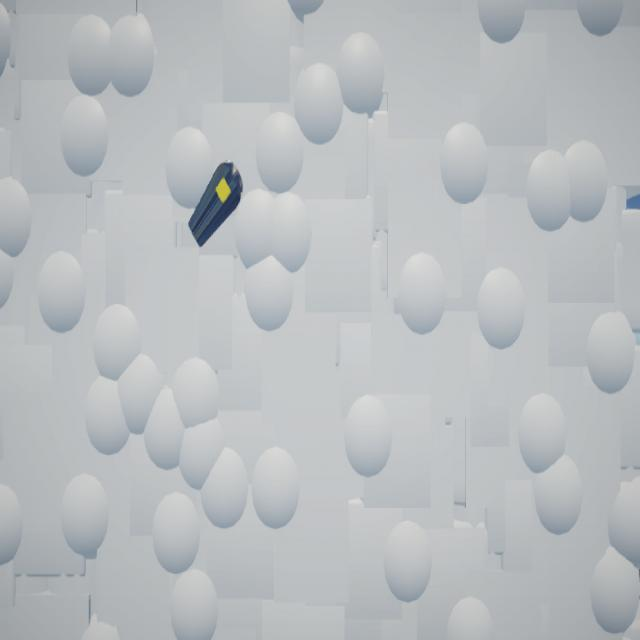handle_folk: (189, 161, 245, 250)
